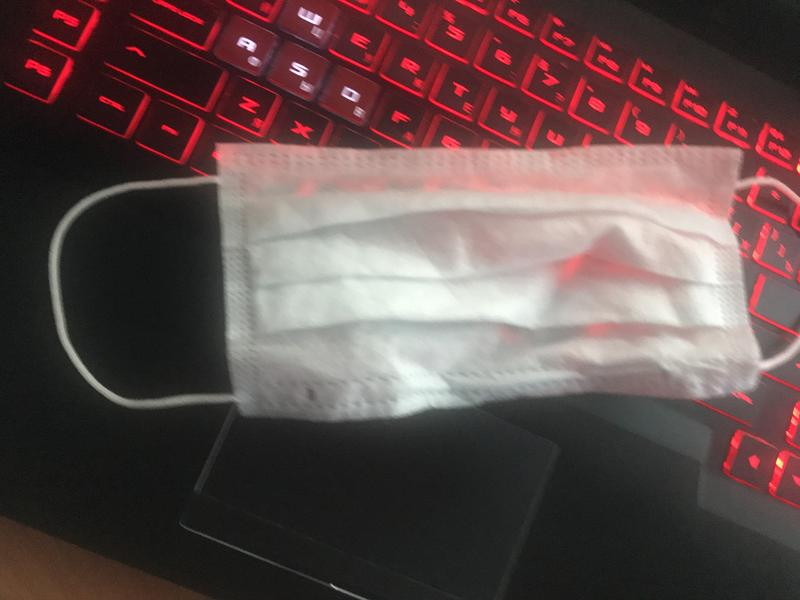medical_mask: (46, 142, 800, 409)
